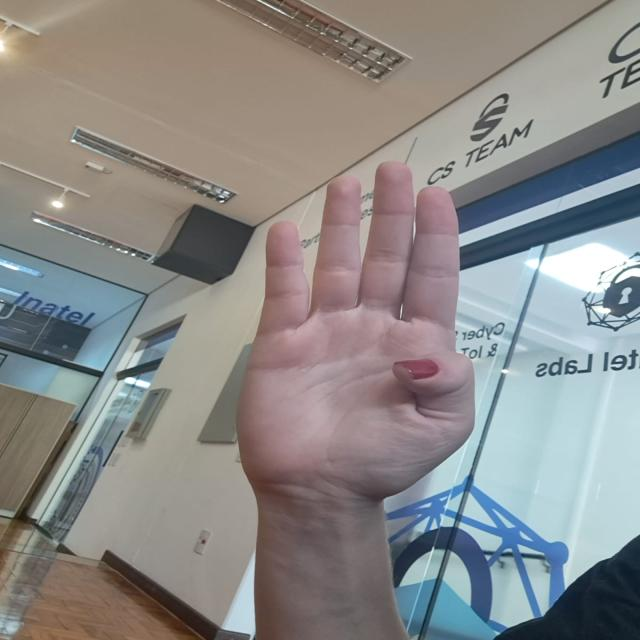B: (229, 160, 480, 494)
